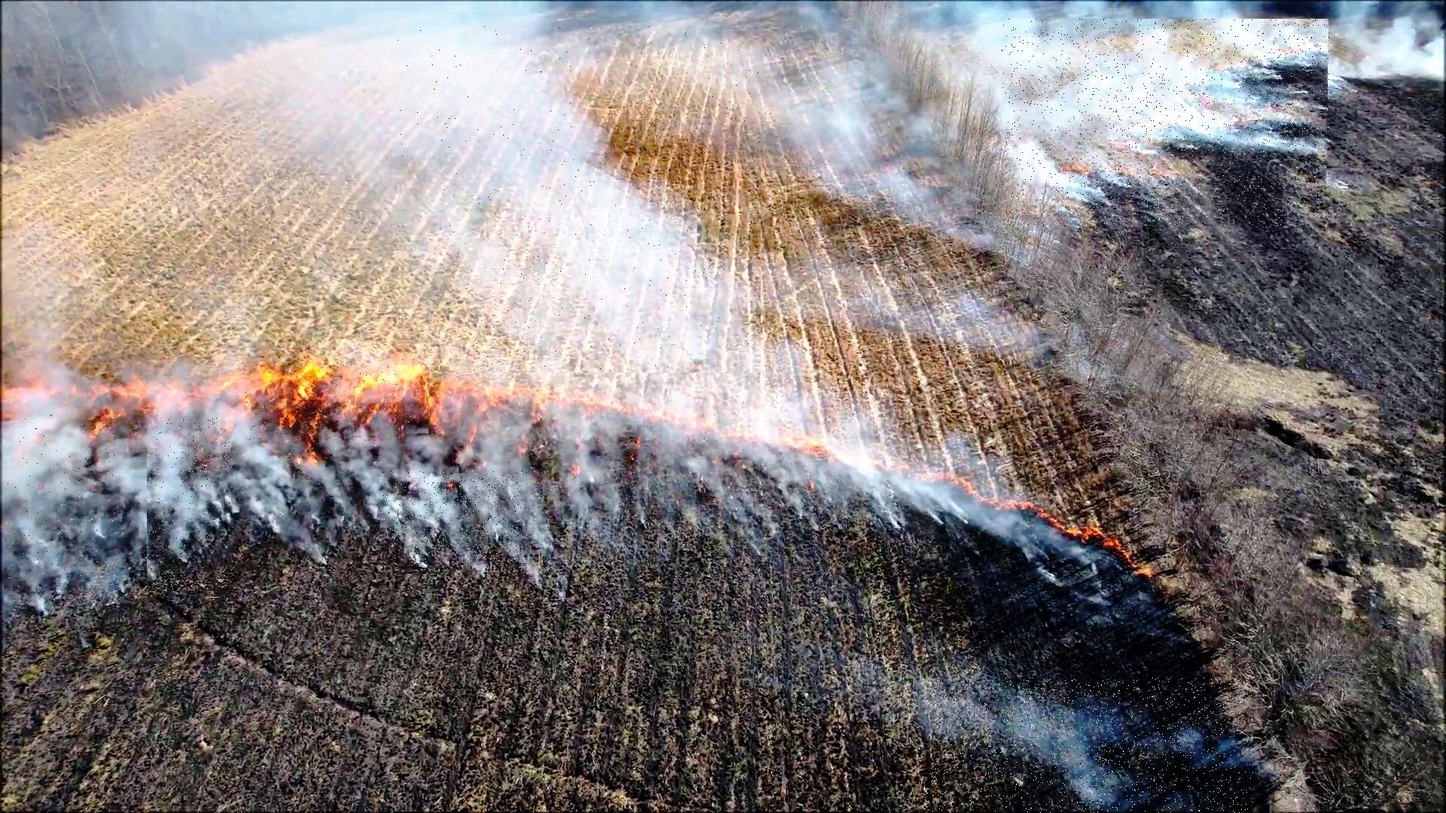fire: (245, 365, 429, 440)
smoke: (395, 26, 761, 373), (1002, 19, 1329, 226), (930, 677, 1254, 813), (4, 410, 117, 632), (380, 470, 527, 572), (147, 418, 233, 591)
